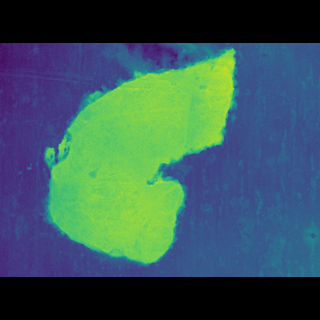Loch: (37, 74, 247, 240)
